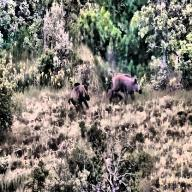boar: (107, 69, 143, 117), (65, 70, 92, 130)
